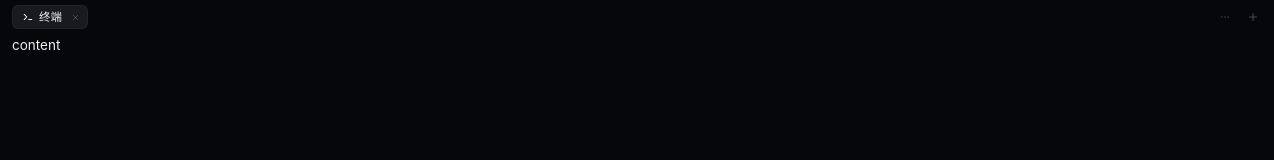
Test case: 工作台标签栏 › 只有一个打开的标签时「关闭其他」禁用
The width and height of the screenshot is (1274, 160).
Right-click the element with class "wb-tab".
right_click(50, 17)  # box [12,5,88,29]
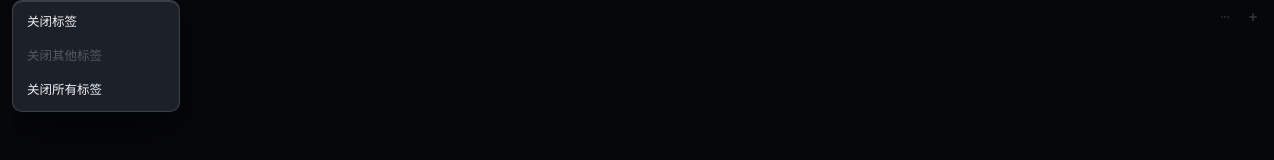
Now the number of buttons with class "ctx-item" is 3, box [17,5,175,39]; [17,39,175,73]; [17,73,175,107]
Now the button with class "ctx-item" showing "关闭其他标签" is disabled, box [17,39,175,73]
